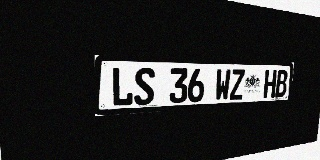3: (169, 68, 188, 104)
6: (187, 68, 205, 103)
B: (275, 70, 288, 97)
H: (263, 70, 277, 98)
L: (111, 67, 134, 107)
S: (134, 68, 155, 106)
W: (215, 69, 231, 101)
Z: (229, 69, 245, 100)
